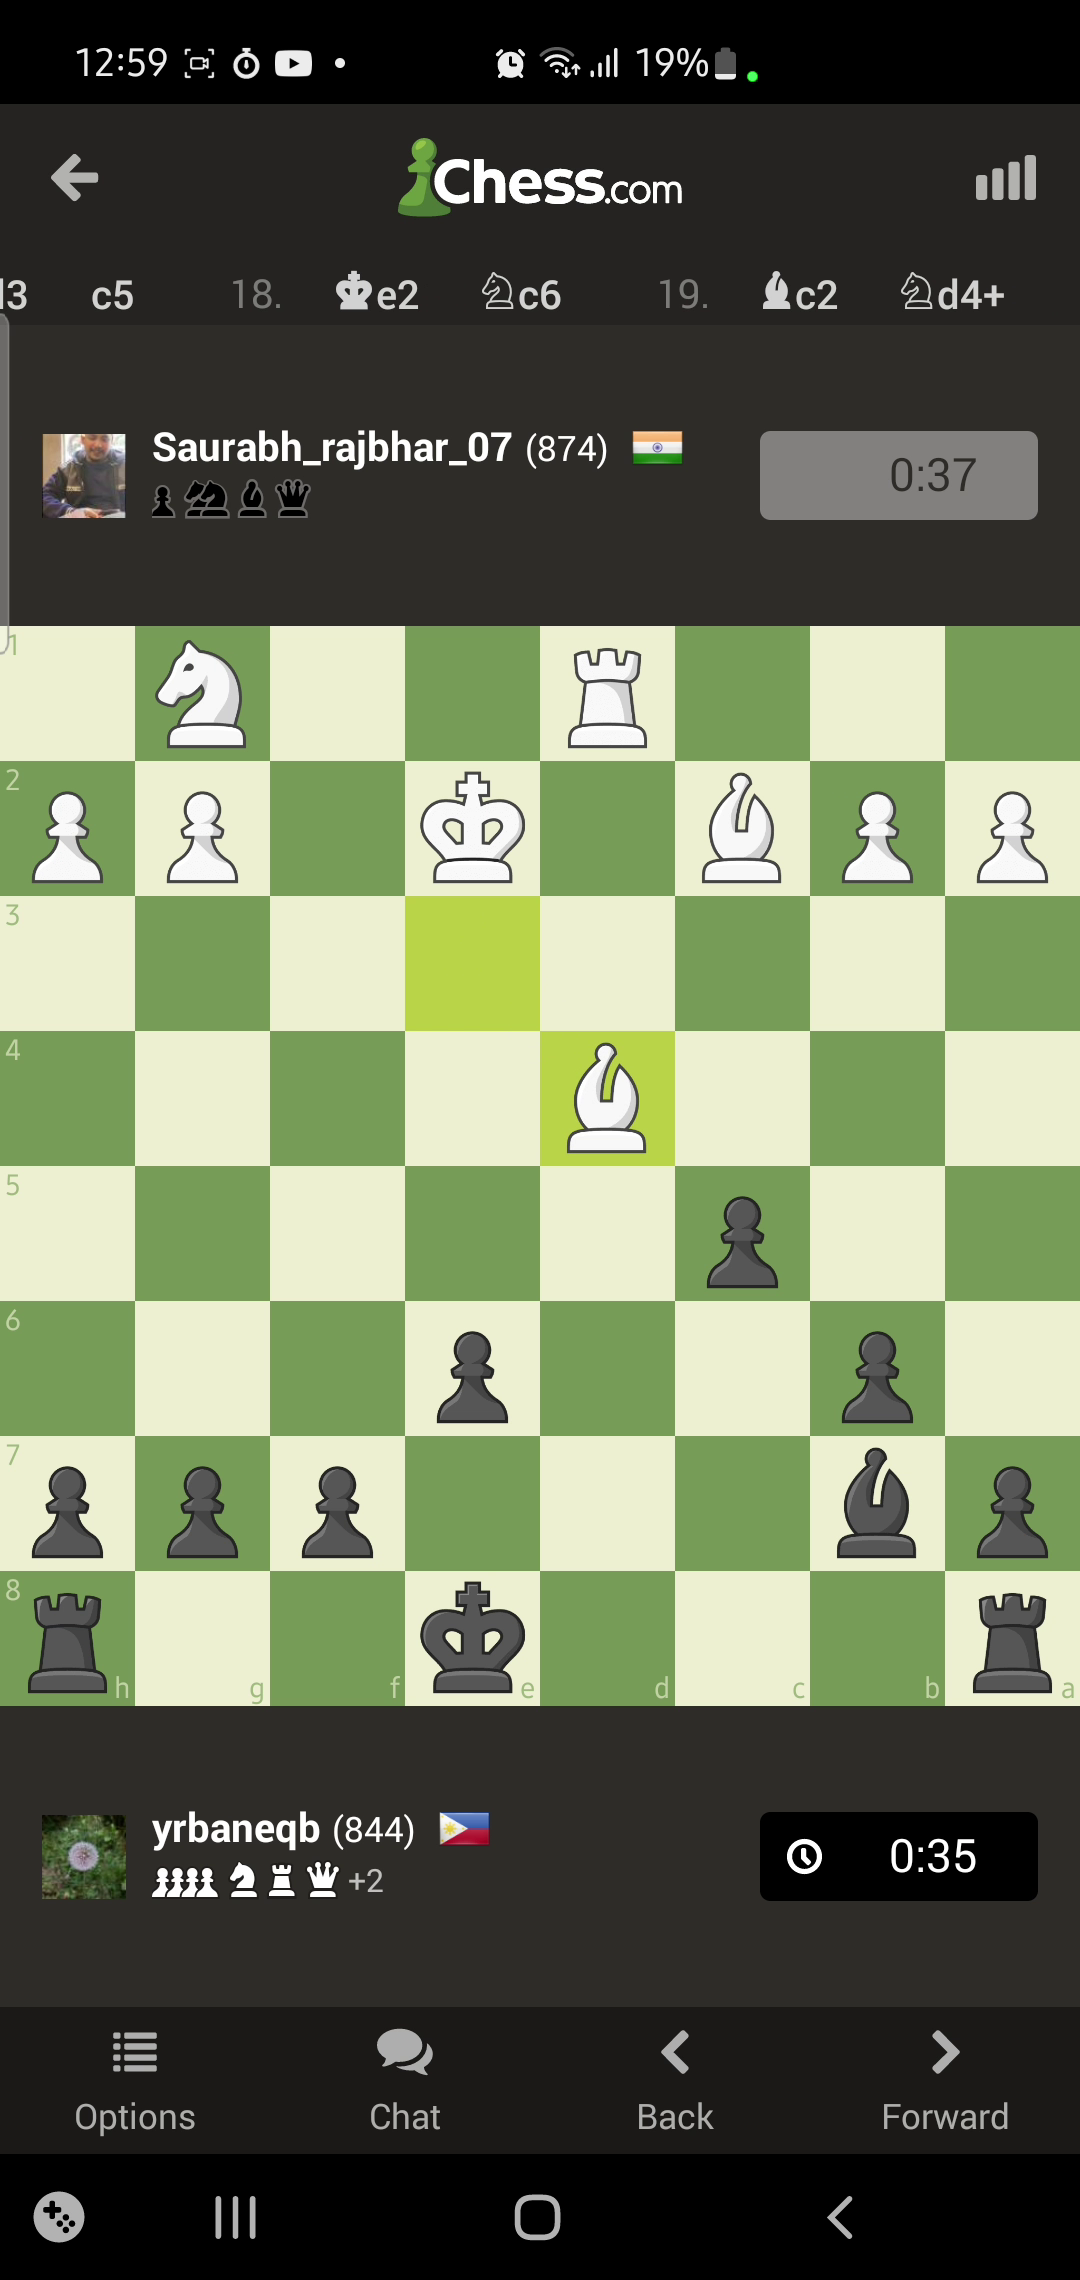king: (420, 769, 528, 883), (420, 1581, 520, 1694)
